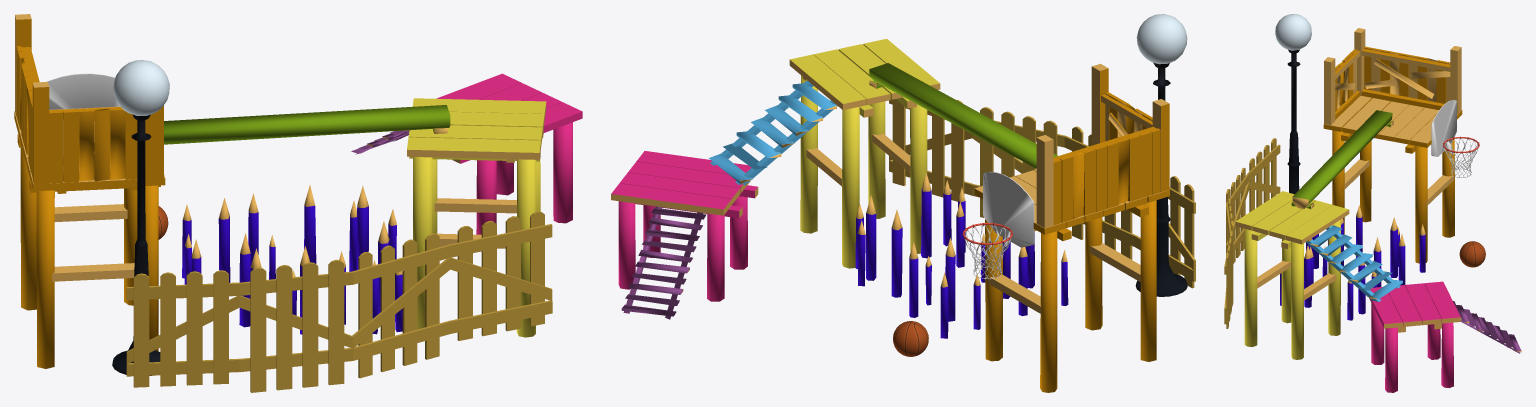
File: p4_decimate.fbx
3 views of the same model, side by side, from view 1: azimuth 30°, elevation 25°; view 2: azimuth 150°, elevation 25°; view 3: azimuth 270°, elevation 25° (orthographic). The views are drawn at different scales.
Visible parts, largest first — view 1: Cube.056, FenceStyle2Short.001, lampione, shield; view 2: Cube.056, FenceStyle2Short.001, lampione, shield, net, Basketball; view 3: Cube.056, FenceStyle2Short.001, lampione, shield, net, Basketball.
Boxes of the visible parts, x1=… form: Cube.056: x1=14, y1=14, x2=582, y2=368; FenceStyle2Short.001: x1=126, y1=211, x2=552, y2=392; lampione: x1=112, y1=60, x2=169, y2=375; shield: x1=46, y1=73, x2=119, y2=109; Cube.056: x1=611, y1=38, x2=1169, y2=392; FenceStyle2Short.001: x1=889, y1=99, x2=1195, y2=288; lampione: x1=1135, y1=14, x2=1187, y2=296; shield: x1=983, y1=171, x2=1034, y2=247; net: x1=962, y1=223, x2=1013, y2=279; Basketball: x1=893, y1=321, x2=928, y2=356; Cube.056: x1=1235, y1=28, x2=1521, y2=392; FenceStyle2Short.001: x1=1224, y1=138, x2=1280, y2=328; lampione: x1=1275, y1=14, x2=1311, y2=194; shield: x1=1431, y1=100, x2=1456, y2=156; net: x1=1443, y1=136, x2=1479, y2=177; Basketball: x1=1459, y1=241, x2=1485, y2=267.
Bounding box in the file's own units: 1894 × 1058 × 1315.
15 materials, 2 textured.
